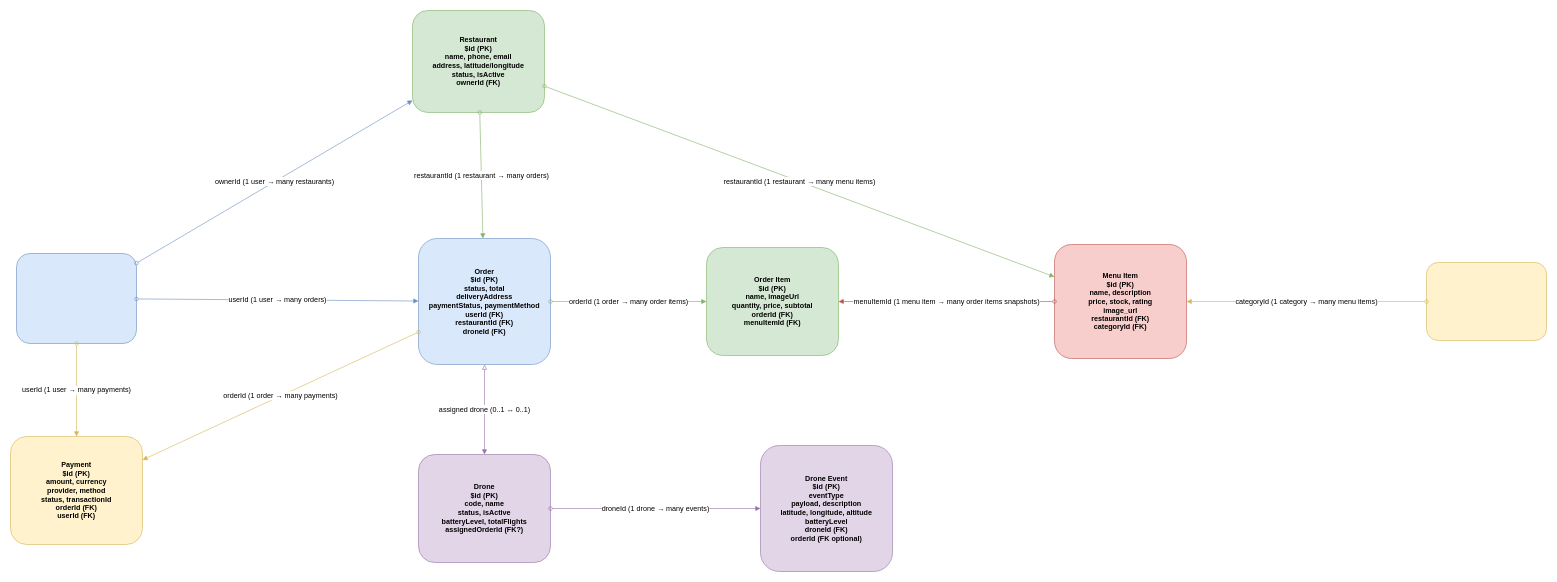
The diagram is 1557 pixels wide and 582 high, and some of its shapes have lost their labels. The box of each missing label's shape, as (x1, y1, x2, y2) in pixels:
Category $id (PK) name description displayOrder: (1426, 262, 1546, 340)
User $id (PK) accountId (Auth) name, email, phone role, status: (16, 253, 136, 344)
